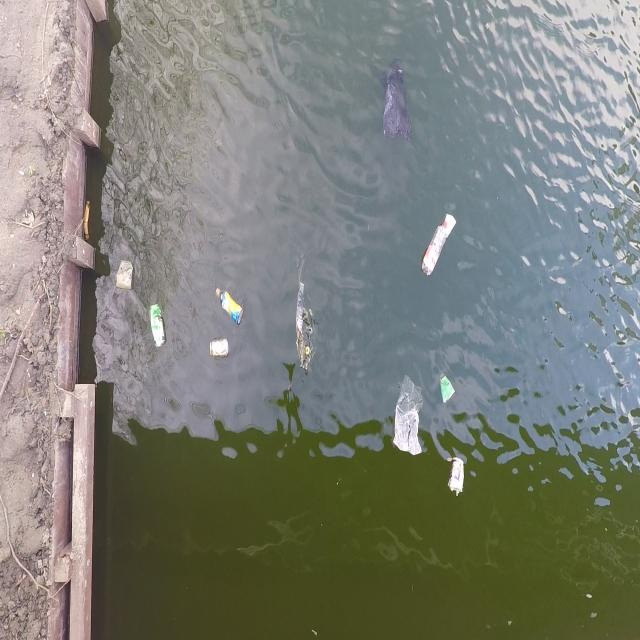Bouteille plastique: (212, 284, 246, 328), (423, 223, 448, 280)
Non plastique: (146, 300, 168, 354), (448, 451, 469, 499), (436, 369, 459, 412), (207, 333, 234, 362), (443, 207, 458, 235)
Sac plastique: (375, 56, 419, 144), (289, 257, 320, 374), (391, 372, 427, 462)
